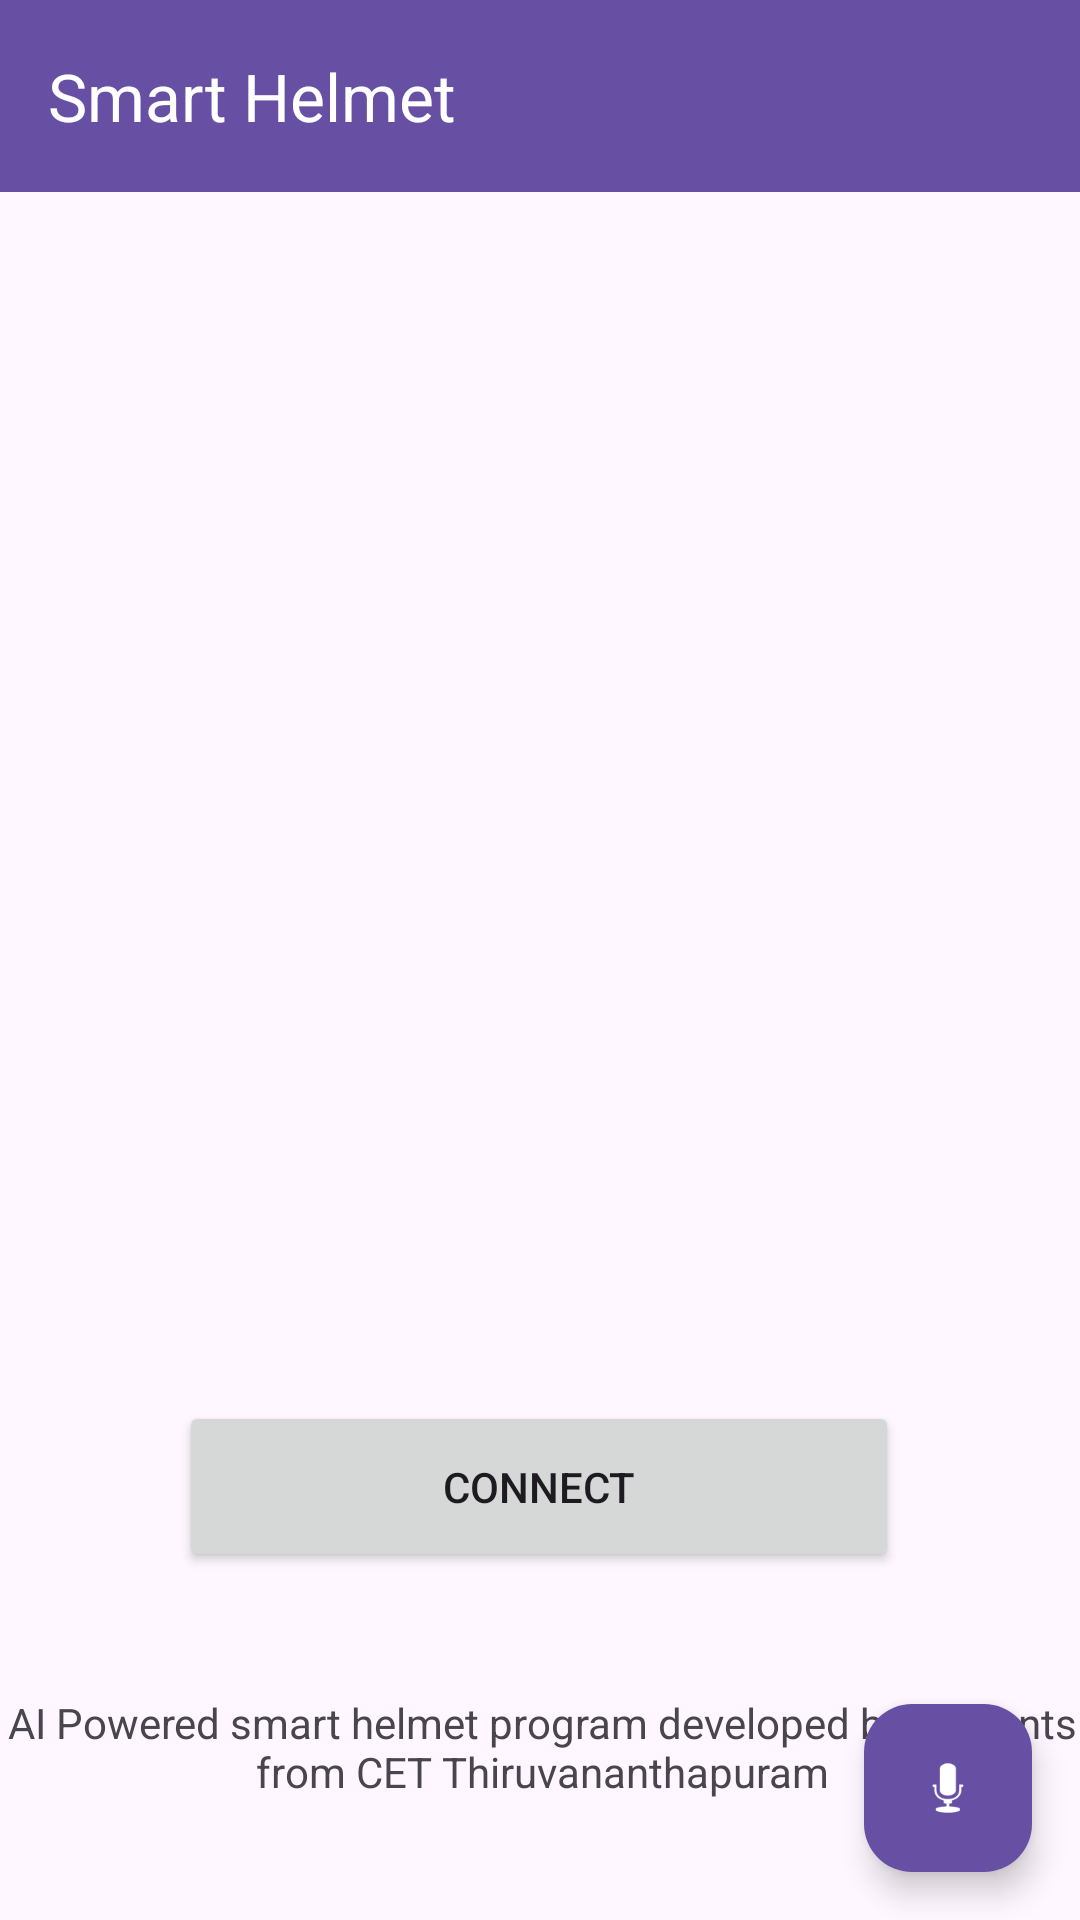

Screen size 1080 x 1920. Icon name, then its box in pixels as [x1=x1, y1=y1, x2=x2, y2=y2]:
Voice Command Assistant: [x1=864, y1=1704, x2=1032, y2=1872]
